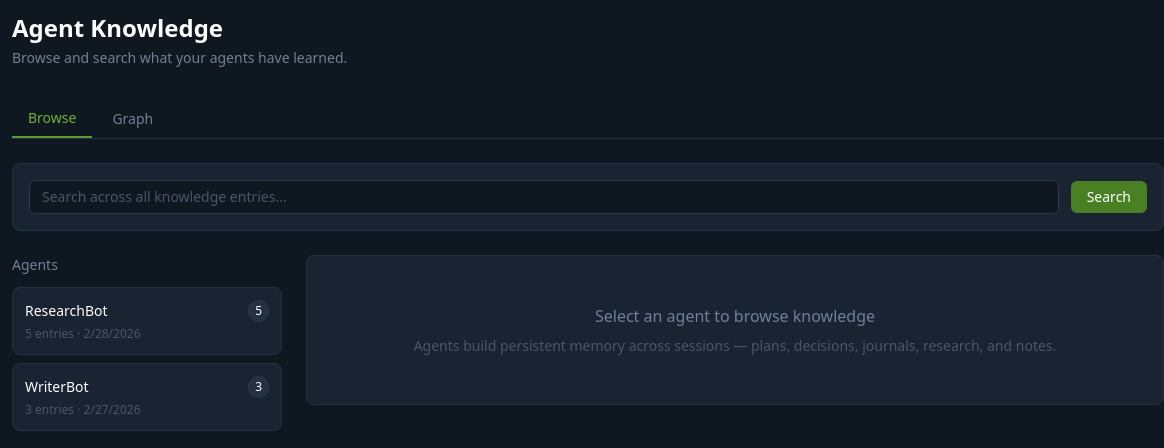
Test case: KnowledgeClient › performs search and shows results
Expected: the text "ResearchBot" is shown, [25,301,108,321]
Type "setup" into the field with placeholder "Search across all knowledge entries..." at (544, 197), box [29,180,1059,214]
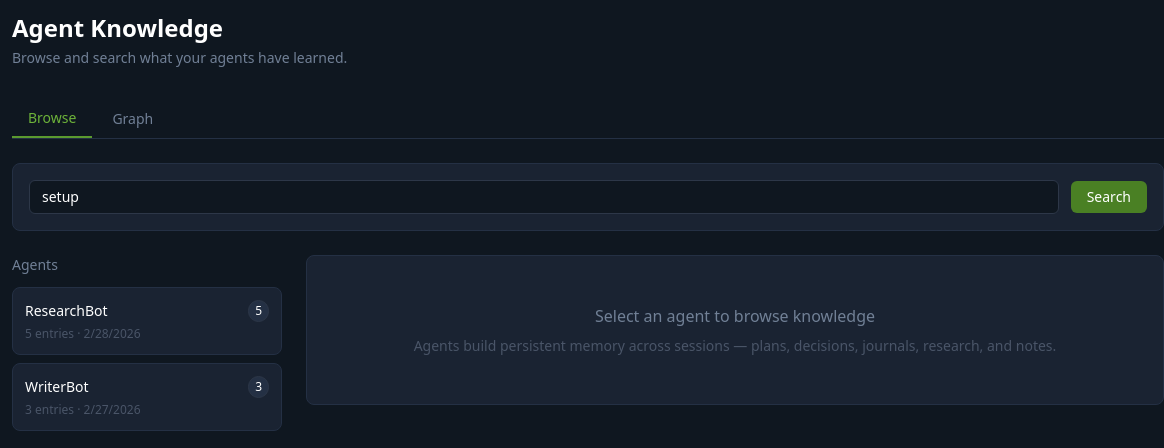
Note: Click the Search button
Click the button "Search" at (1109, 197), box [1071,181,1147,213]
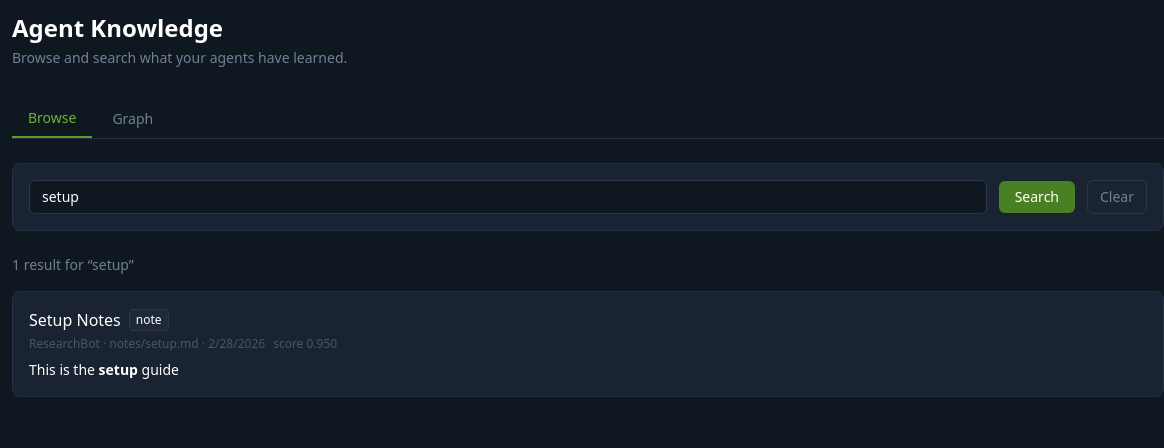
Expected: the text "1 result for “setup”" is shown, [12,255,134,274]
